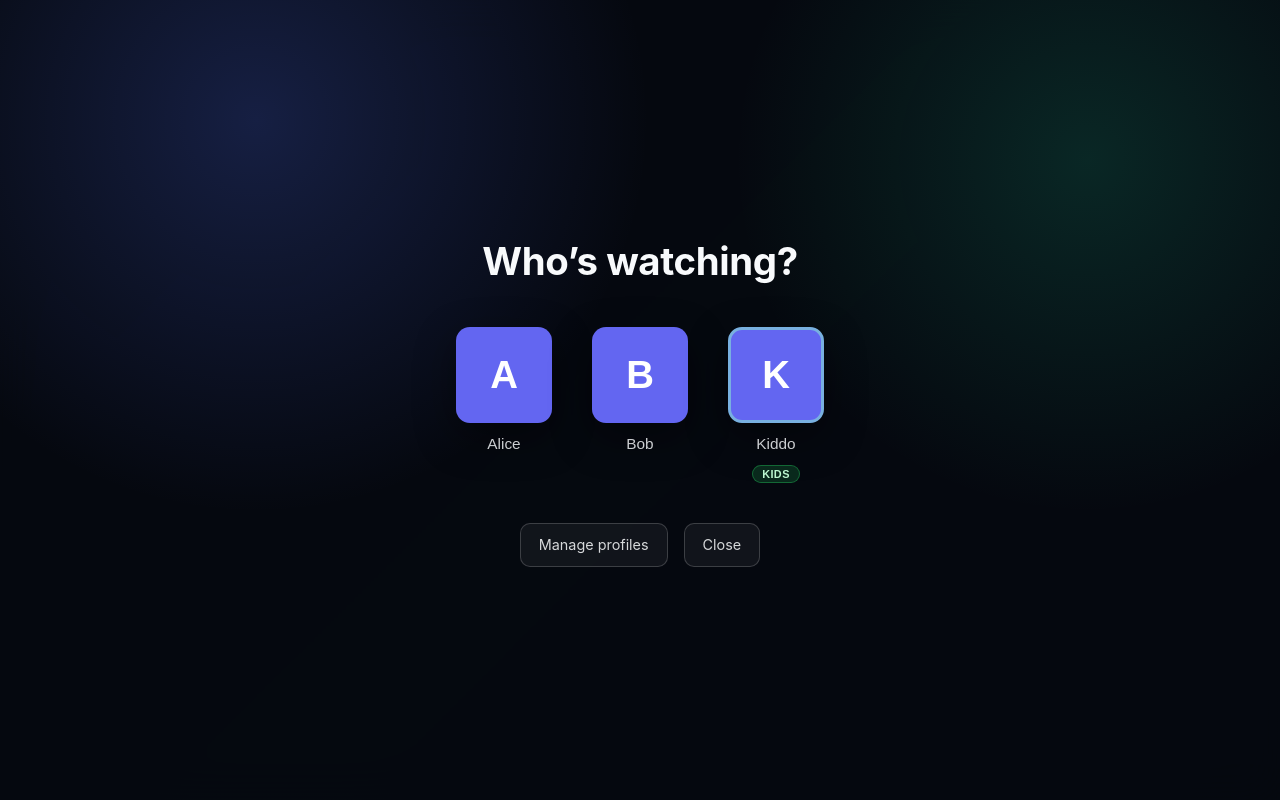
Test: ProfilePicker kid UnlockPrompt › prompts for the account password when leaving a kid profile
This screenshot has width=1280, height=800.
Click the text "Alice".
click(504, 444)  # box [487, 435, 521, 453]
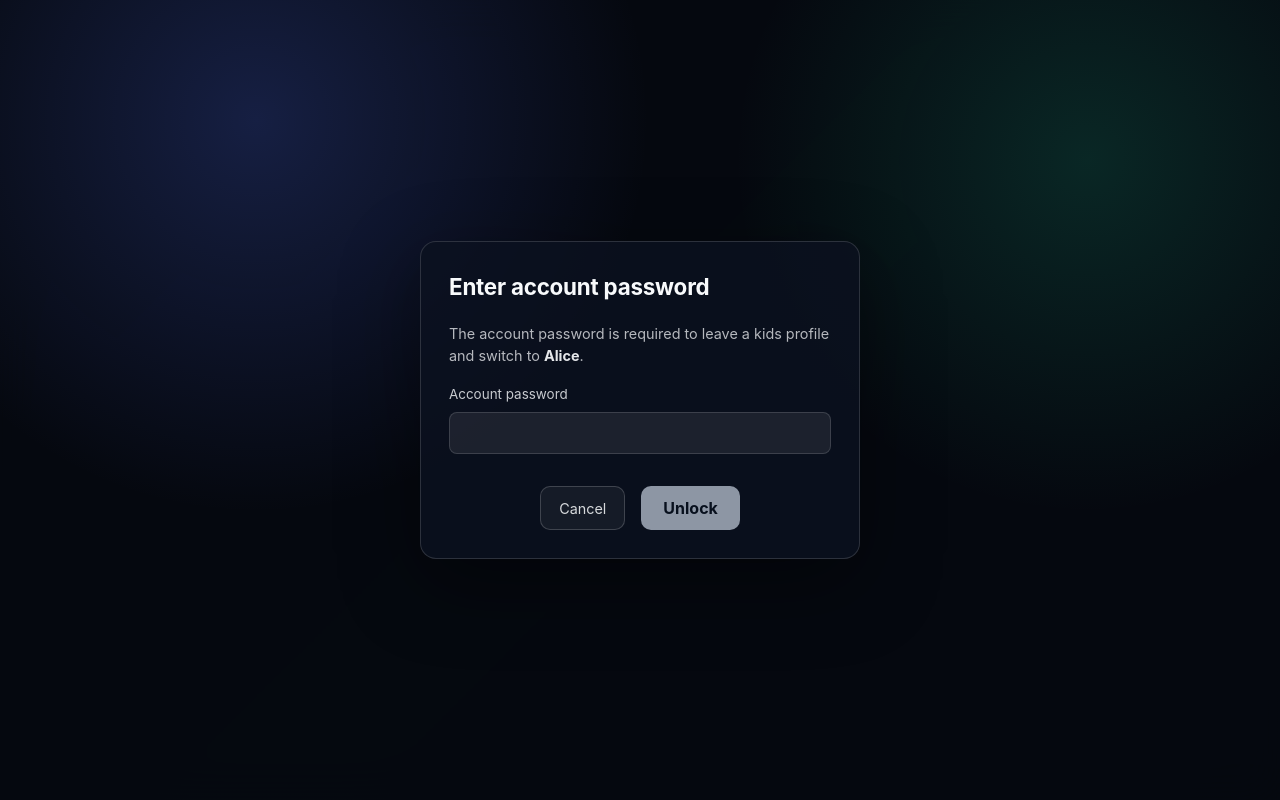
Check: the text "Alice" is shown, box [544, 347, 580, 364]
Check: the dialog "Enter account password" is shown
Check: the text "required to leave a kids profile" is shown, box [449, 325, 829, 364]
